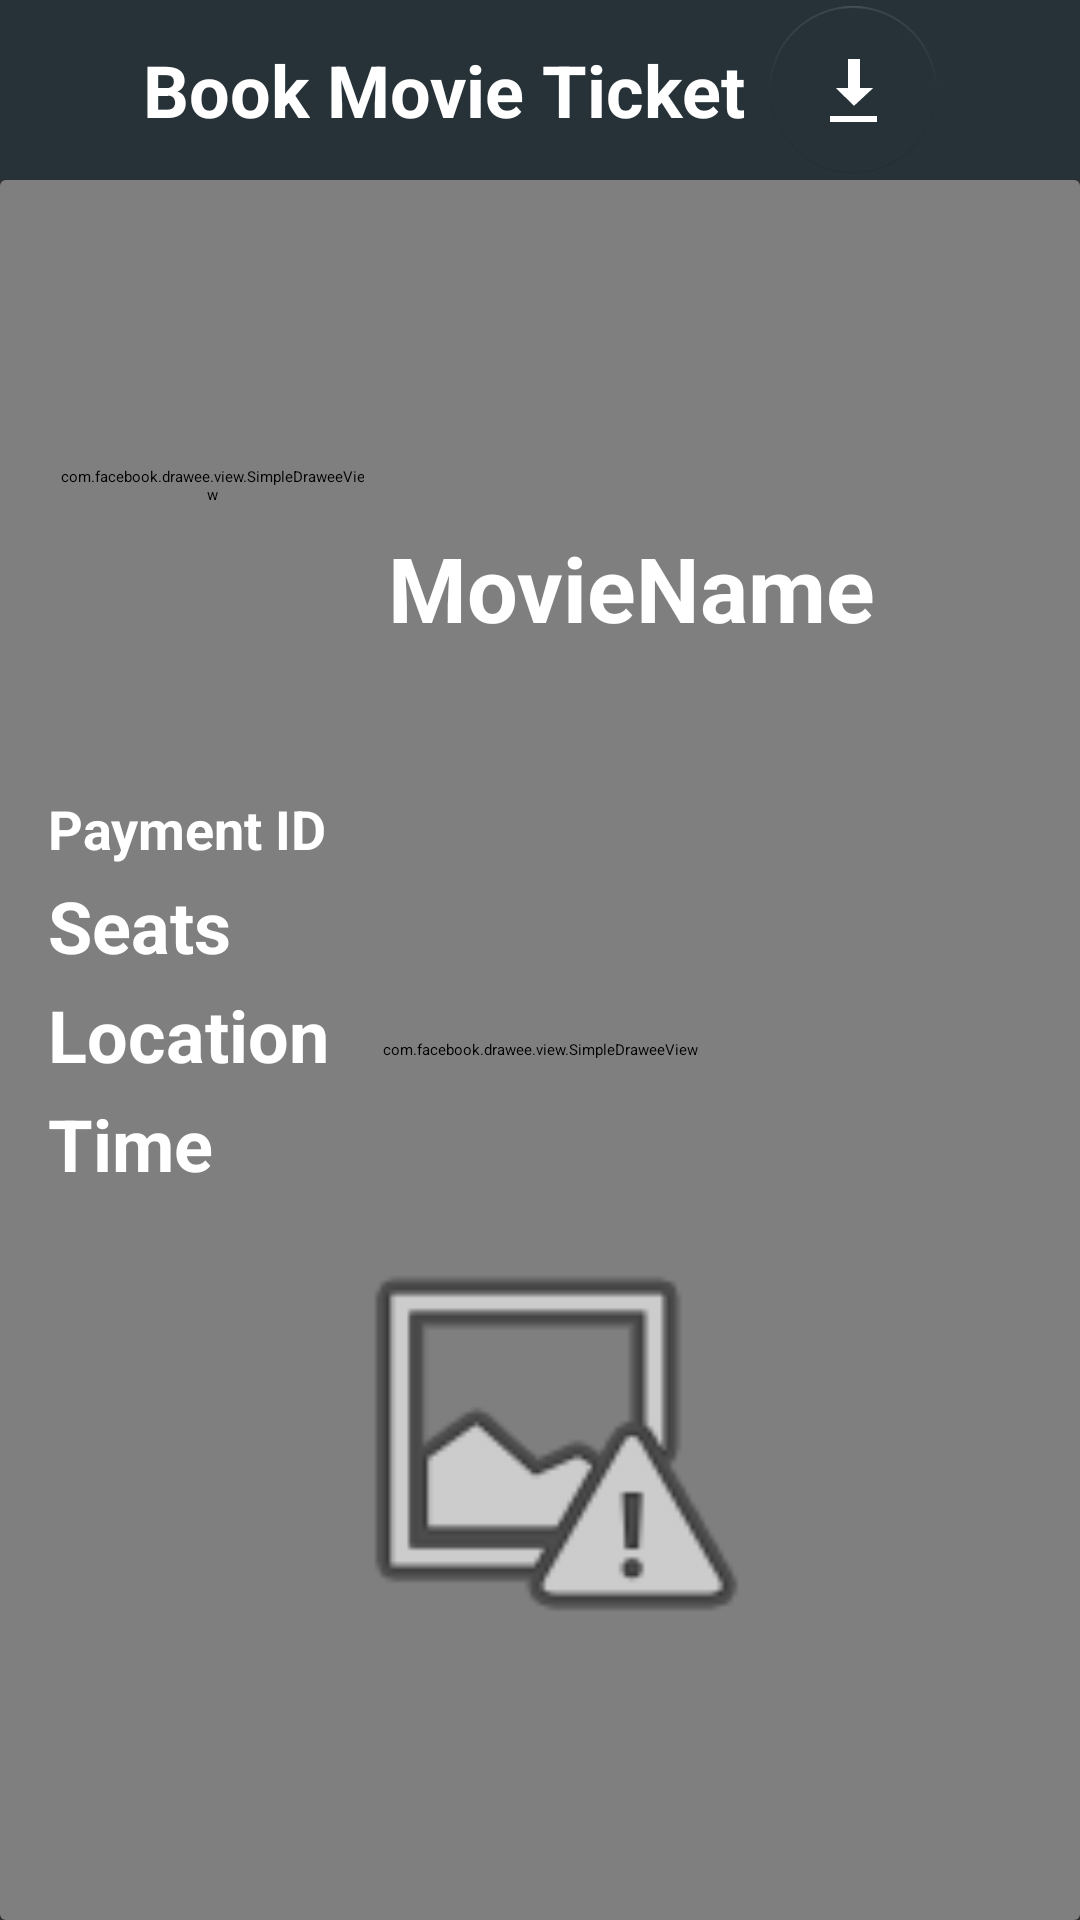

Screen size 1080px×1920px. Icon name, then its box in pixels as detection(x1, y1, x2, y2):
download: detection(830, 6, 877, 122)
report: detection(376, 1280, 736, 1609)
